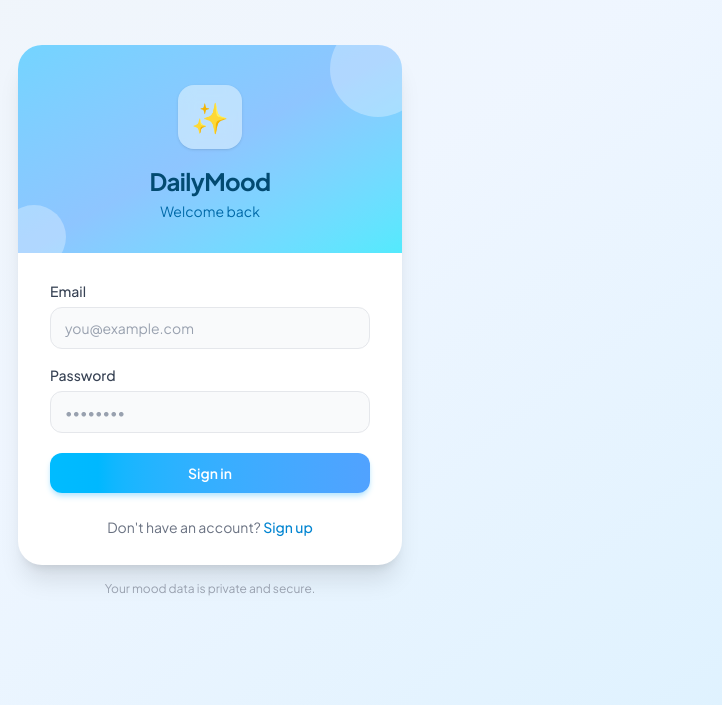
Scenario: LoginPage (integration) › displays an error message when sign in fails
Type "bad@example.com" into the field labelled "Email" at point(210, 328), box 50,307 -> 370,349
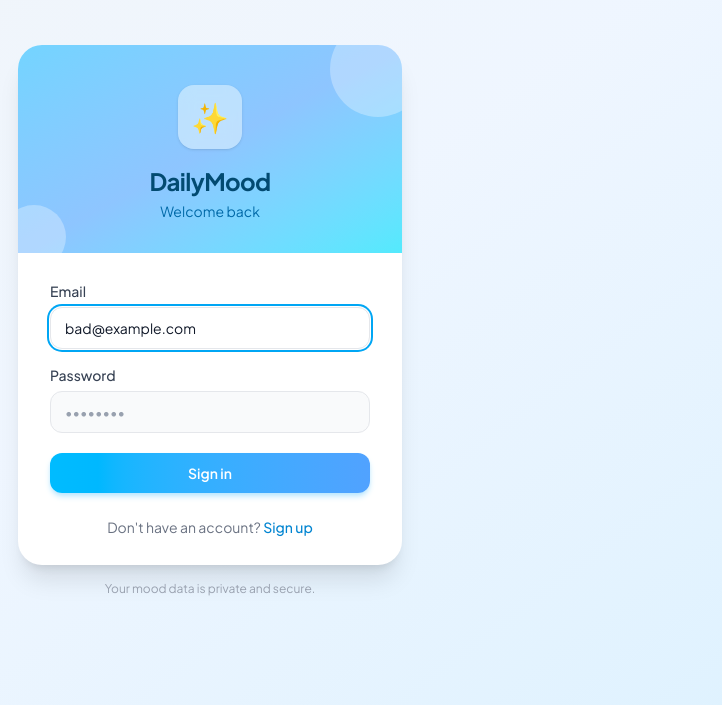
Type "wrongpass" into the password field labelled "Password" at point(210, 412), box 50,391 -> 370,433
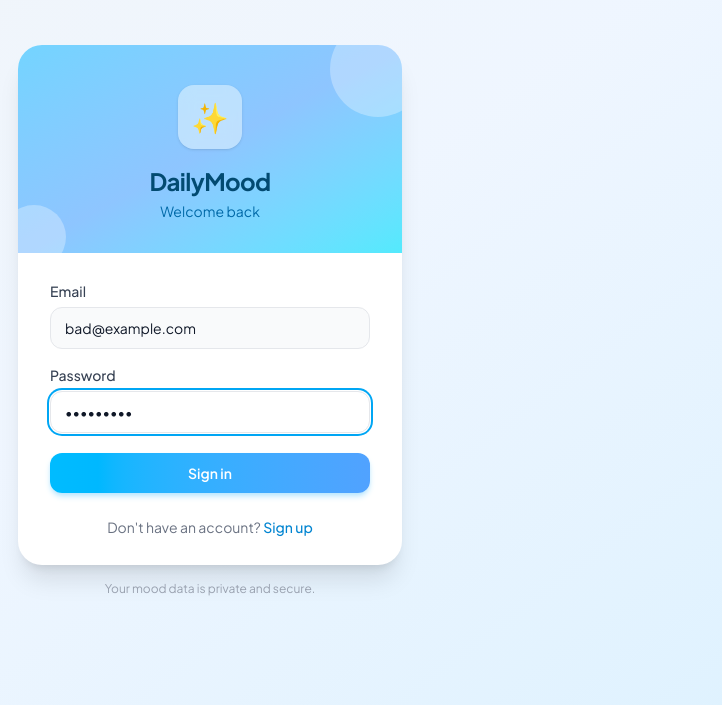
Click the button "Sign in" at point(210, 473), box 50,453 -> 370,493
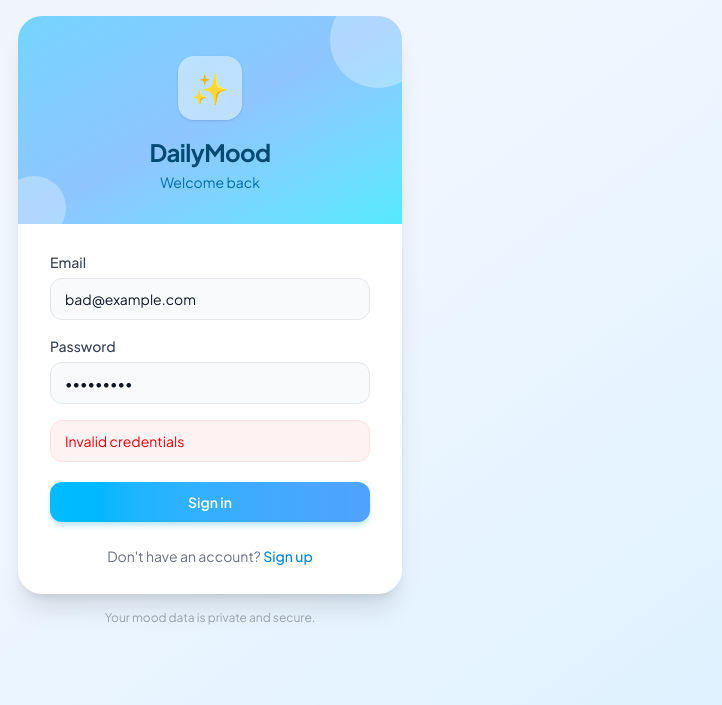
Result: the message reads "Invalid credentials" at 65,432 -> 184,450
